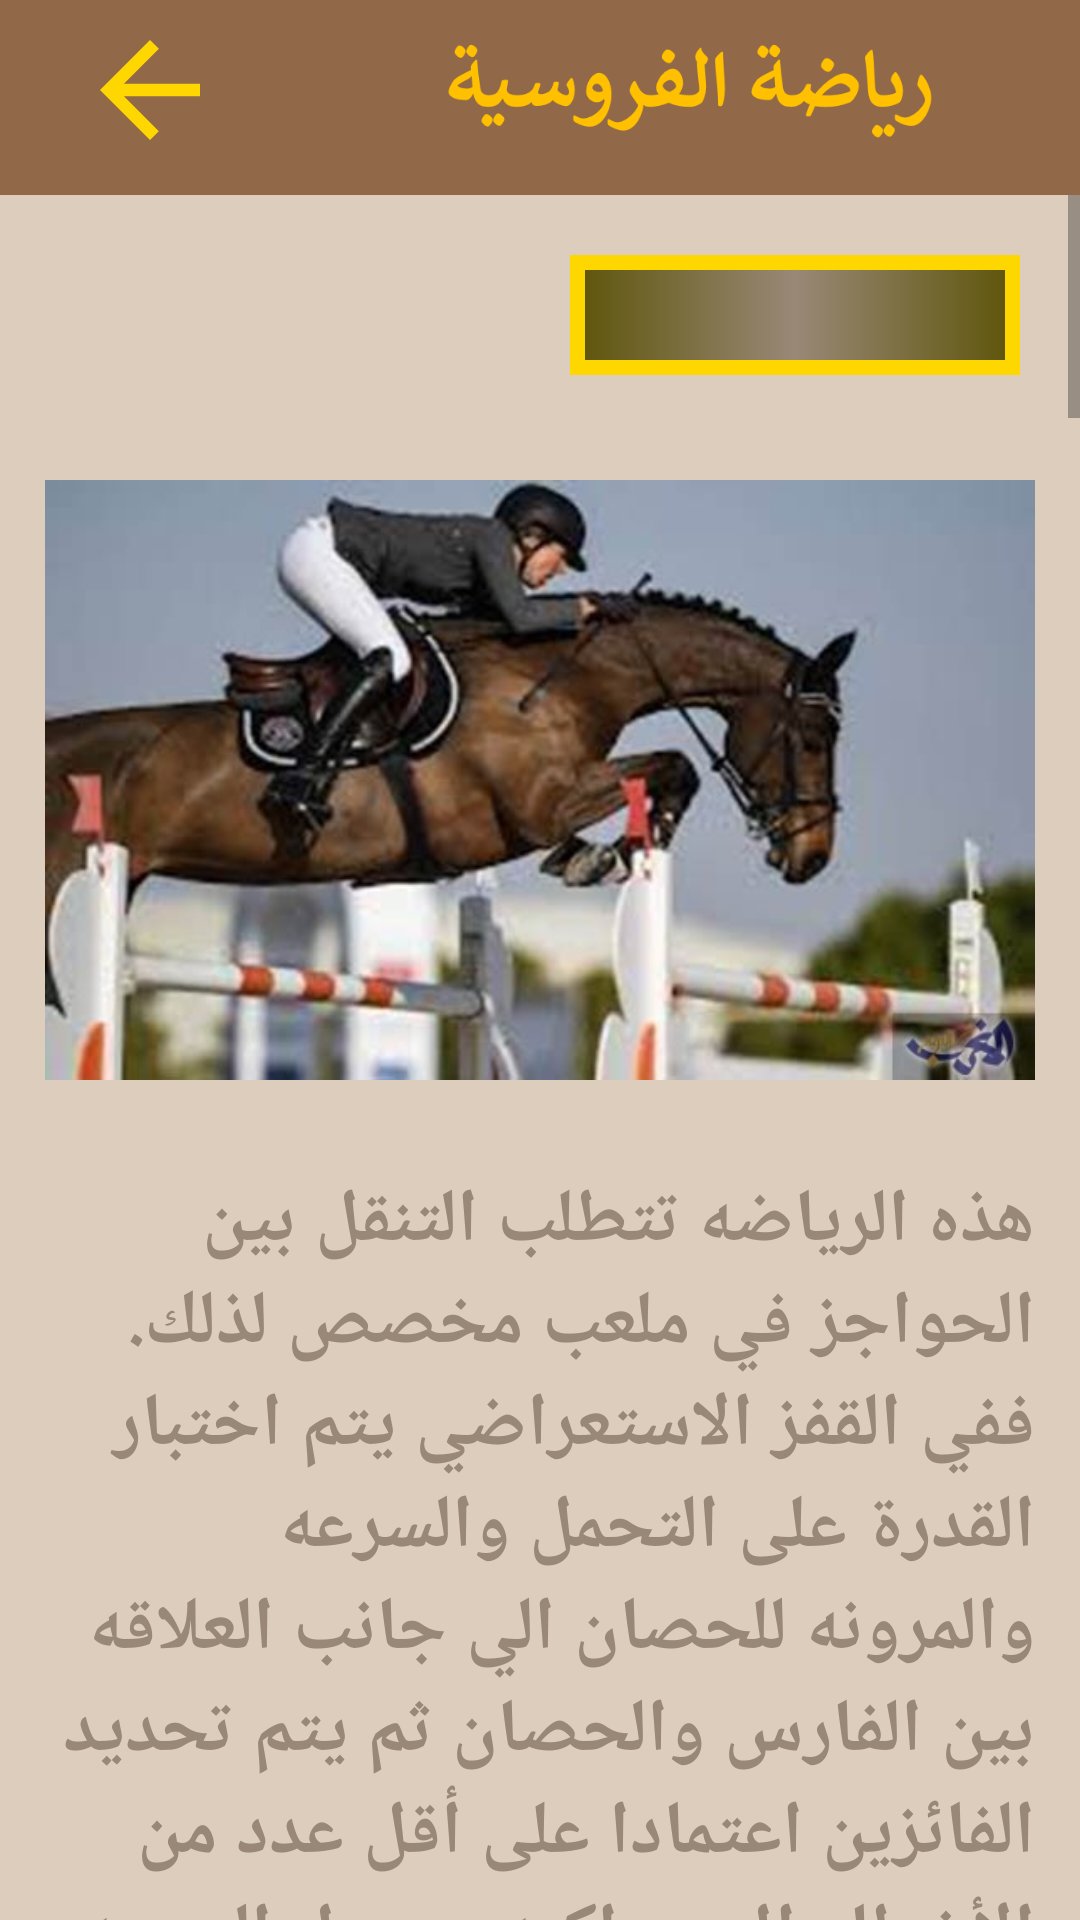

Icons on this 1080 x 1920 Android screen, each with its box as region(x1, y1, x2, y2):
arrow back: region(100, 40, 200, 140)
